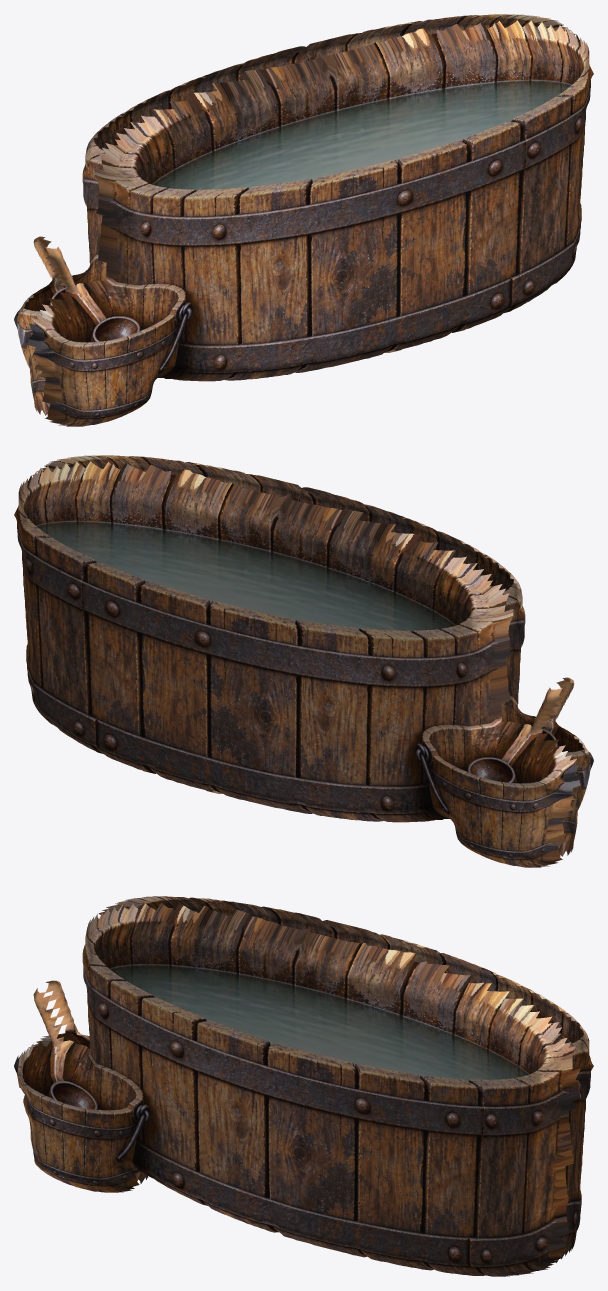
The model's file is v4-forge-scatter-quench-tub.glb.
The picture shows the model from 3 angles, top to bottom: view 1: azimuth 30°, elevation 25°; view 2: azimuth 150°, elevation 25°; view 3: azimuth 330°, elevation 25°; orthographic projection.
Visible parts, largest first — view 1: v4-forge-scatter-quench-tub; view 2: v4-forge-scatter-quench-tub; view 3: v4-forge-scatter-quench-tub.
Boxes of the visible parts, box(x1,y1,x2,y2) form: v4-forge-scatter-quench-tub: box(14, 14, 593, 426); v4-forge-scatter-quench-tub: box(14, 455, 593, 867); v4-forge-scatter-quench-tub: box(14, 896, 593, 1276).
Bounding box in the file's own units: 1.83 × 0.9767 × 0.24.
Materials: 1 (1 with a texture image).
